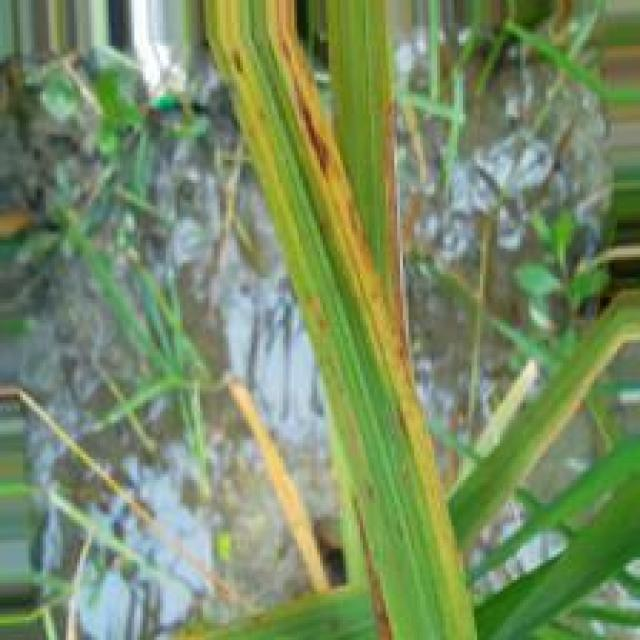Narrow_Brown_Leaf_Spot: (196, 2, 457, 640)
